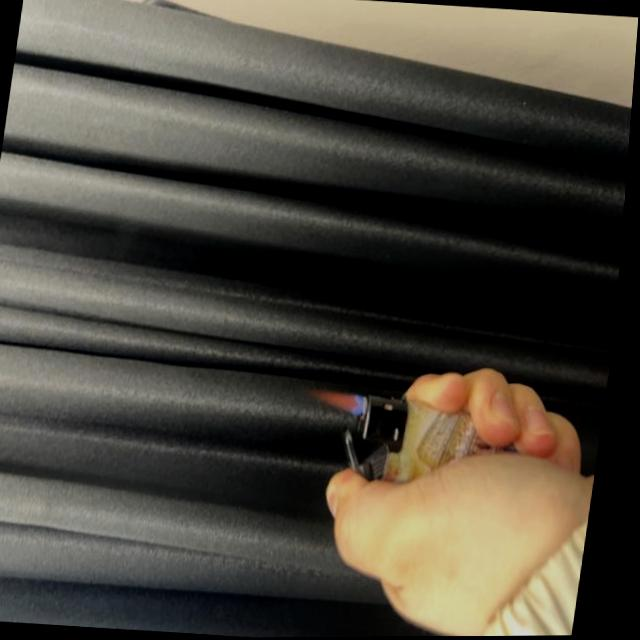Fire: (305, 388, 371, 418)
